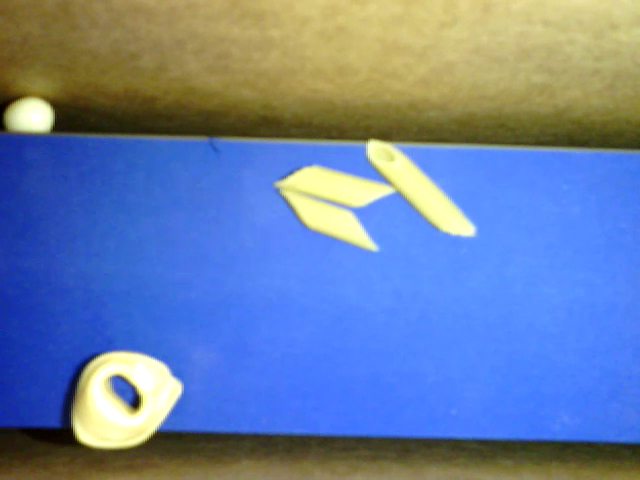penne: (366, 137, 477, 237), (279, 188, 381, 250), (272, 161, 396, 208)
tortellini: (70, 349, 185, 452)
